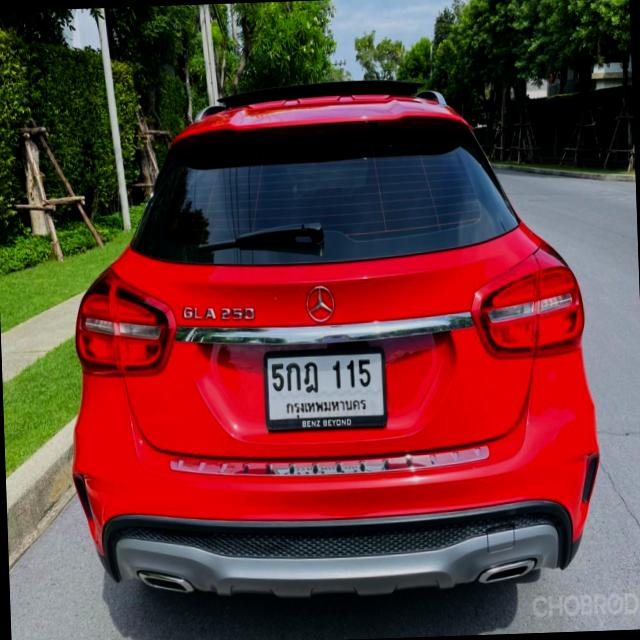license_plate: (260, 339, 391, 434)
